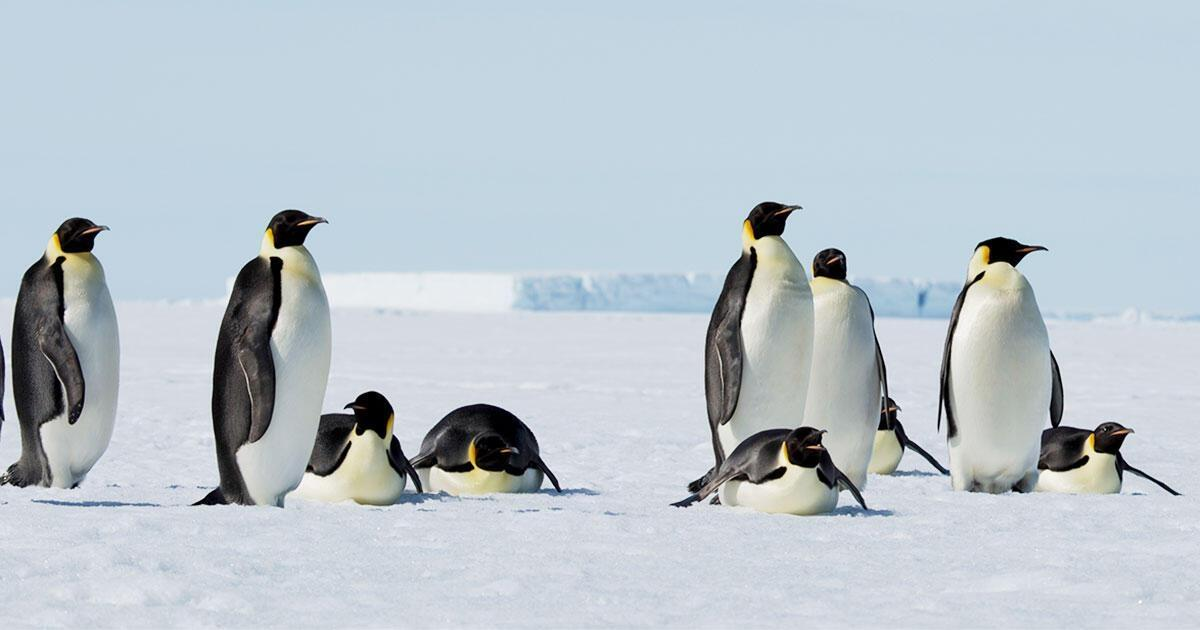Penguin: (197, 209, 330, 505), (938, 237, 1064, 493), (0, 217, 119, 488), (705, 202, 812, 465), (804, 248, 888, 489), (673, 427, 865, 514), (295, 391, 421, 505), (410, 404, 560, 493), (1037, 422, 1178, 494), (867, 396, 949, 475)
